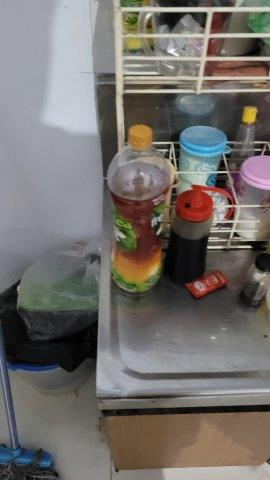botolplastik: (108, 125, 171, 297)
